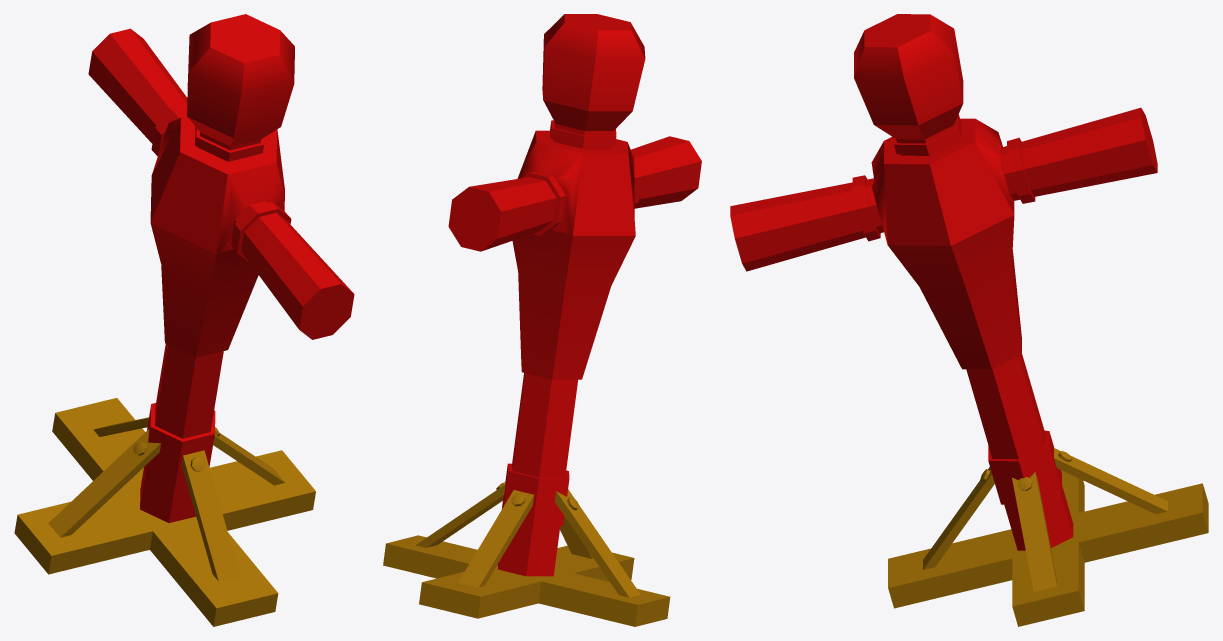
Rendered from DummySeminarioAtaque2.fbx.
3 renders of one model, left to right at view 1: azimuth 30°, elevation 25°; view 2: azimuth 150°, elevation 25°; view 3: azimuth 270°, elevation 25°, orthographic. The views are drawn at different scales.
Parts seen in each view (by area): view 1: pCylinder1, pCube2, pCube5, pCube4, pCube6, pCube3; view 2: pCylinder1, pCube2, pCube3, pCube4, pCube6, pCube5; view 3: pCylinder1, pCube2, pCube6, pCube3, pCube5.
Boxes of the visible parts, left/top/right/bottom form: pCylinder1: left=88, top=14, right=354, bottom=522; pCube2: left=14, top=398, right=315, bottom=626; pCube5: left=181, top=450, right=240, bottom=581; pCube4: left=48, top=429, right=160, bottom=537; pCube6: left=213, top=433, right=284, bottom=485; pCube3: left=93, top=417, right=148, bottom=436; pCylinder1: left=448, top=14, right=701, bottom=576; pCube2: left=383, top=535, right=670, bottom=626; pCube3: left=458, top=490, right=534, bottom=587; pCube4: left=554, top=489, right=640, bottom=597; pCube6: left=415, top=484, right=505, bottom=547; pCube5: left=560, top=516, right=593, bottom=558; pCylinder1: left=730, top=14, right=1157, bottom=550; pCube2: left=888, top=470, right=1208, bottom=626; pCube6: left=1012, top=472, right=1056, bottom=591; pCube3: left=1054, top=448, right=1167, bottom=514; pCube5: left=923, top=467, right=994, bottom=569.
Size of the model in its own units: 2.09 by 4.43 by 3.35.
